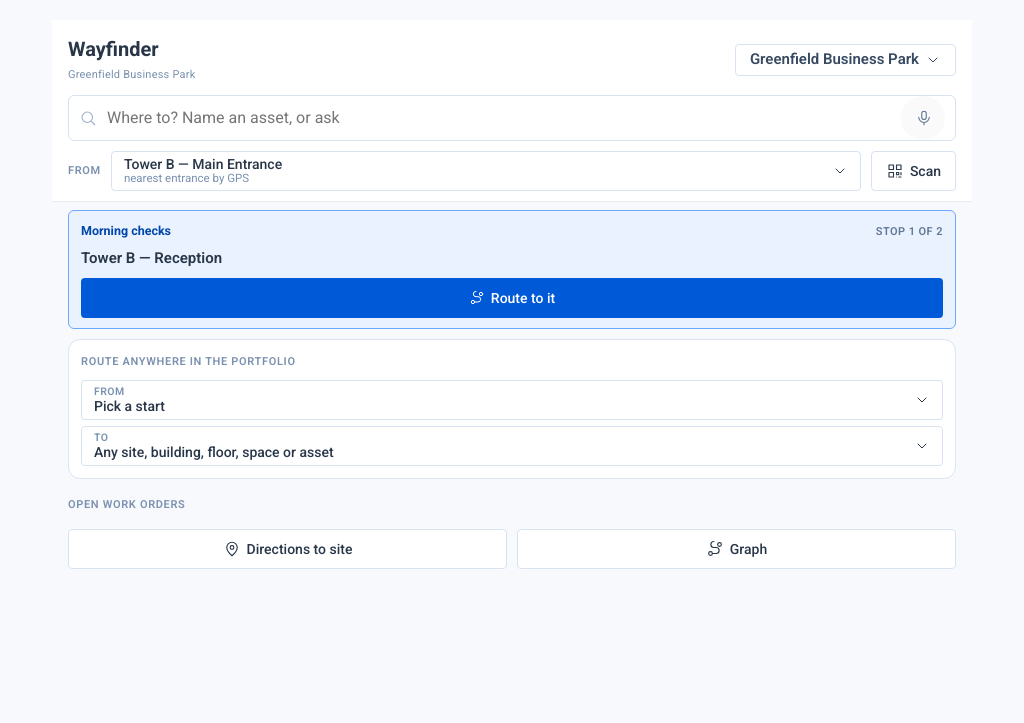
round in progress › routes to the stop in one tap
Step 1. Click the button "Route to it" → (512, 298), box [81,278,943,318]
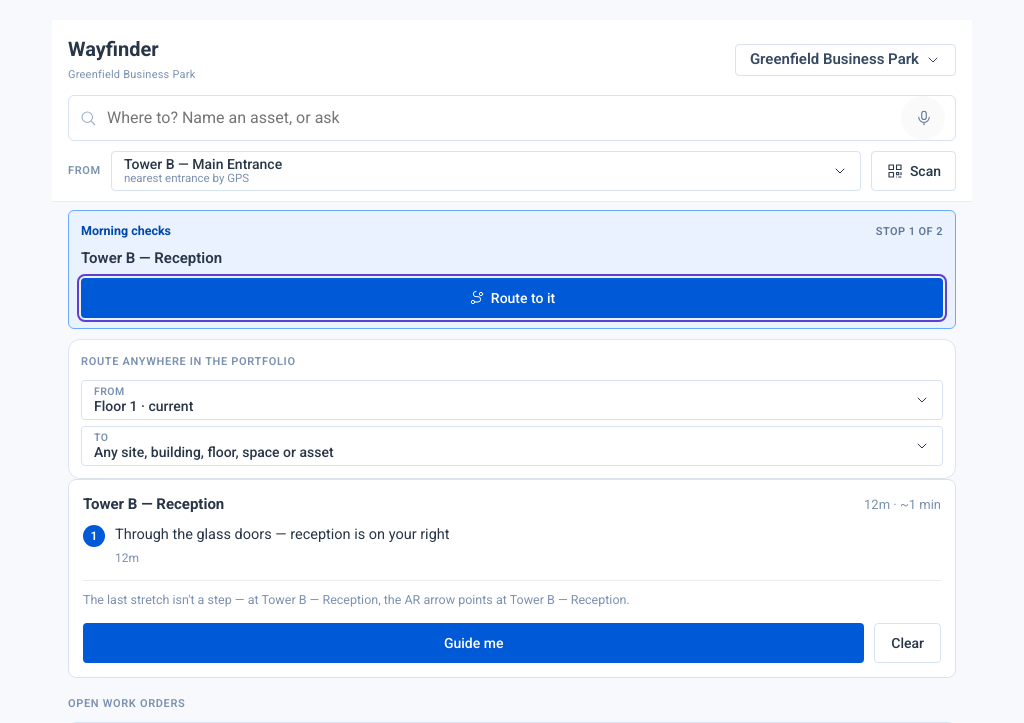
Result: the button "Guide me" is shown at [83,623,864,663]
